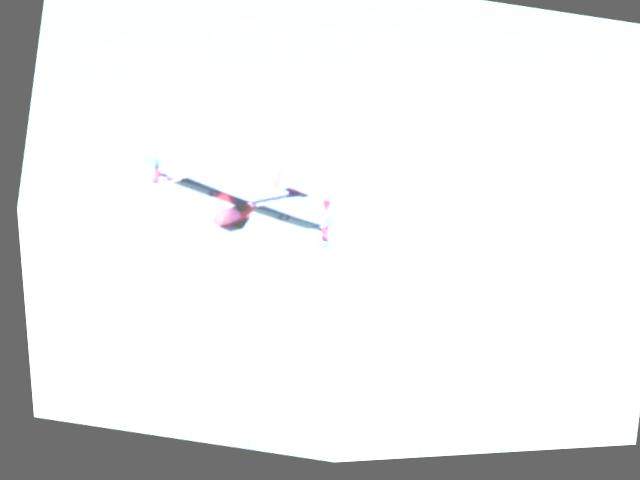uav: (119, 129, 357, 277)
